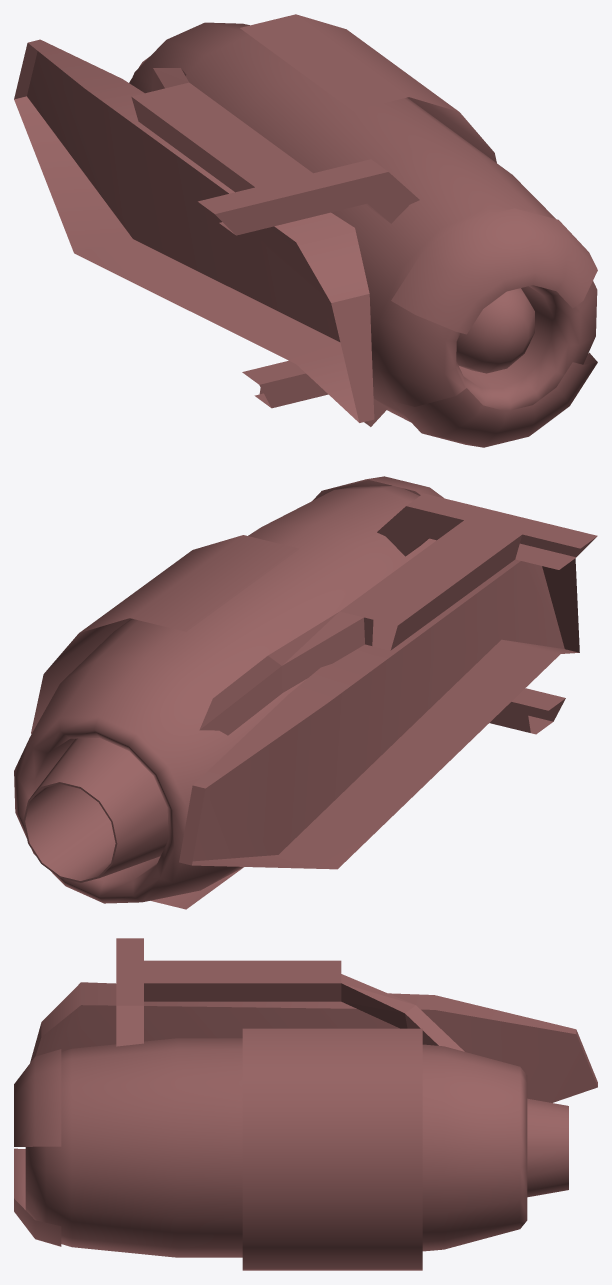
File: hor engine l.FBX
3 views of the same model, one above another, from view 1: azimuth 30°, elevation 25°; view 2: azimuth 150°, elevation 25°; view 3: azimuth 270°, elevation 25° (orthographic). The views are drawn at different scales.
Parts seen in each view (by area): view 1: Object059; view 2: Object059; view 3: Object059.
Boxes of the visible parts, left/top/right/bottom form: Object059: left=14, top=14, right=597, bottom=447; Object059: left=14, top=476, right=597, bottom=909; Object059: left=14, top=938, right=597, bottom=1270.
Bounding box in the file's own units: 1.01 × 0.7381 × 1.73.
